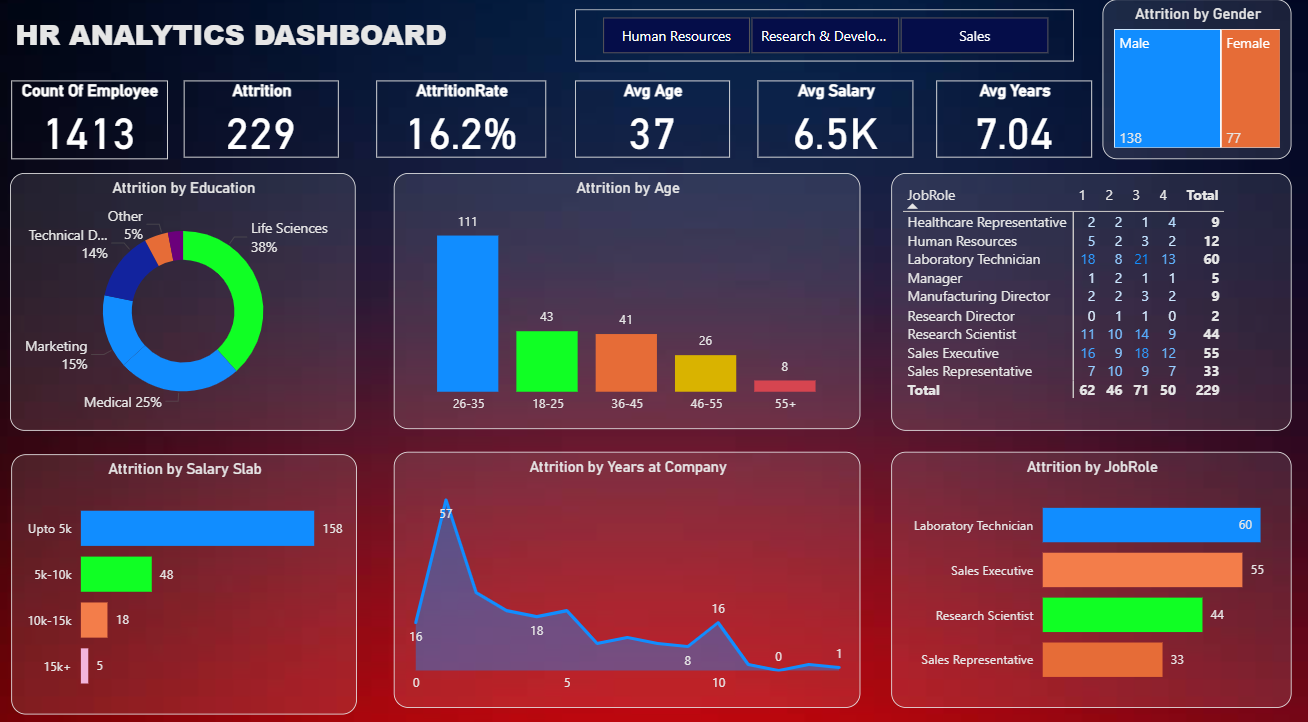

This screenshot's page, from the dashboard's own definition file:
{"tool":"powerbi","page":{"name":"Page 1","canvas":[1280,720],"ordinal":0},"visuals":[{"type":"card","title":"Count Of Employee","fields":{"Values":["CountNonNull(HR_Analytics.EmpID)"]},"box":[20.5,89.3,150.8,73.6],"z":0},{"type":"card","title":"AttritionRate","fields":{"Values":["HR_Analytics.AttritionRate"]},"box":[372.8,88.9,164.2,74.1],"z":1000},{"type":"card","title":"Avg Age","fields":{"Values":["Avg(HR_Analytics.Age)"]},"box":[564.2,88.9,149.4,74.1],"z":2000},{"type":"card","title":"Attrition","fields":{"Values":["Sum(HR_Analytics.AttritionCount)"]},"box":[186.4,88.9,149.4,74.1],"z":3000},{"type":"card","title":"Avg Salary","fields":{"Values":["Avg(HR_Analytics.MonthlyIncome)"]},"box":[740.7,88.9,150.6,74.1],"z":4000},{"type":"card","title":"Avg Years","fields":{"Values":["Avg(HR_Analytics.YearsAtCompany)"]},"box":[913.6,88.9,150.6,74.1],"z":5000},{"type":"donutChart","title":"Attrition by Education","fields":{"Category":["HR_Analytics.EducationField"],"Y":["Sum(HR_Analytics.AttritionCount)"]},"box":[18.8,178.8,333.8,248.8],"z":6000},{"type":"columnChart","title":"Attrition by Age","fields":{"Category":["HR_Analytics.AgeGroup"],"Y":["Sum(HR_Analytics.AttritionCount)"]},"box":[390.1,179,450.6,246.9],"z":7000},{"type":"pivotTable","fields":{"Rows":["HR_Analytics.JobRole"],"Values":["Sum(HR_Analytics.AttritionCount)"],"Columns":["HR_Analytics.JobSatisfaction"]},"box":[869.8,178.6,386.1,248.5],"z":8000},{"type":"clusteredBarChart","title":"Attrition by Salary Slab","fields":{"Category":["HR_Analytics.SalarySlab"],"Y":["Sum(HR_Analytics.AttritionCount)"]},"box":[20,450,333.8,251.2],"z":9000},{"type":"clusteredBarChart","title":"Attrition by JobRole","fields":{"Category":["HR_Analytics.JobRole"],"Y":["Sum(HR_Analytics.AttritionCount)"]},"box":[870.4,448.1,386.4,246.9],"z":10000},{"type":"areaChart","title":"Attrition by Years at Company ","fields":{"Category":["HR_Analytics.YearsAtCompany"],"Y":["Sum(HR_Analytics.AttritionCount)"]},"box":[390.1,448.1,450.6,246.9],"z":11000},{"type":"treemap","title":"Attrition by Gender","fields":{"Group":["HR_Analytics.Gender"],"Values":["Sum(HR_Analytics.AttritionCount)"]},"box":[1074.1,11.1,182.7,154.3],"z":12000},{"type":"slicer","fields":{"Values":["HR_Analytics.Department"]},"box":[564.2,21,481.5,50.6],"z":13000},{"type":"textbox","box":[19.8,21,476.5,50.6],"z":14000}]}

Visuals, with their boxes in screenshot pixels (x1, y1, x2, y2), scaled from the page's 1280x720 canvas onto the 1308x722 screenshot:
"Count Of Employee" card: BBox(21, 90, 175, 163)
"AttritionRate" card: BBox(381, 89, 549, 163)
"Avg Age" card: BBox(577, 89, 729, 163)
"Attrition" card: BBox(190, 89, 343, 163)
"Avg Salary" card: BBox(757, 89, 911, 163)
"Avg Years" card: BBox(934, 89, 1087, 163)
"Attrition by Education" donutChart: BBox(19, 179, 360, 429)
"Attrition by Age" columnChart: BBox(399, 179, 859, 427)
pivotTable - HR_Analytics.JobRole x Sum(HR_Analytics.AttritionCount): BBox(889, 179, 1283, 428)
"Attrition by Salary Slab" clusteredBarChart: BBox(20, 451, 362, 703)
"Attrition by JobRole" clusteredBarChart: BBox(889, 449, 1284, 697)
"Attrition by Years at Company " areaChart: BBox(399, 449, 859, 697)
"Attrition by Gender" treemap: BBox(1098, 11, 1284, 166)
slicer - HR_Analytics.Department: BBox(577, 21, 1069, 72)
textbox: BBox(20, 21, 507, 72)
